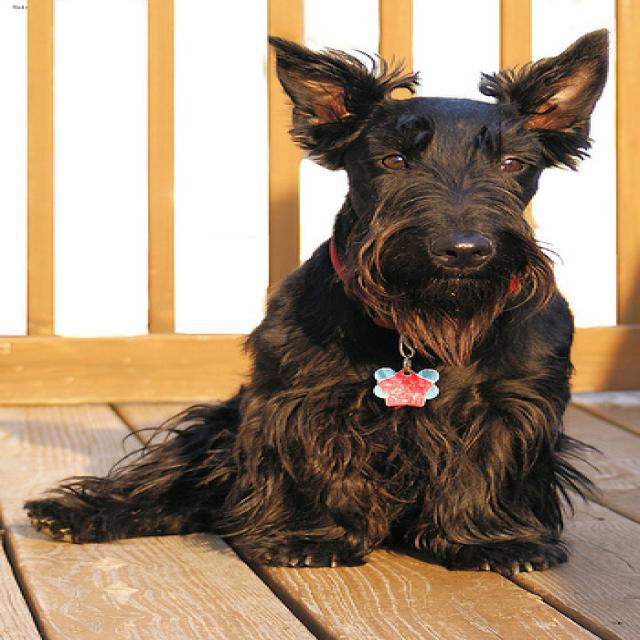dog-scottish_terrier: (13, 22, 631, 579)
